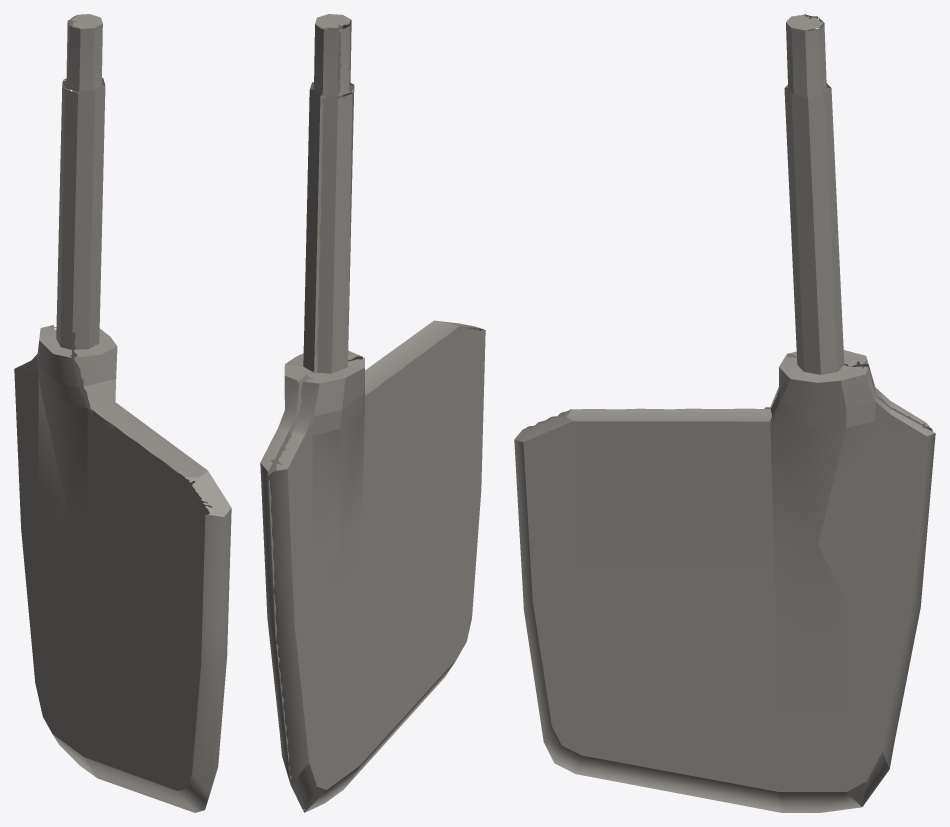
Rendered from boat_rudder.fbx.
3 renders of one model, left to right at view 1: azimuth 30°, elevation 25°; view 2: azimuth 150°, elevation 25°; view 3: azimuth 270°, elevation 25°, orthographic. The views are drawn at different scales.
Visible parts, largest first — view 1: boat_rudder; view 2: boat_rudder; view 3: boat_rudder.
Part boxes in pixels (box(x1,y1,x2,y2)): boat_rudder: box(14, 14, 231, 812); boat_rudder: box(260, 14, 485, 812); boat_rudder: box(514, 14, 935, 812).
Bounding box in the file's own units: 3.58 × 41.24 × 19.93.
Materials: 1 (1 with a texture image).
